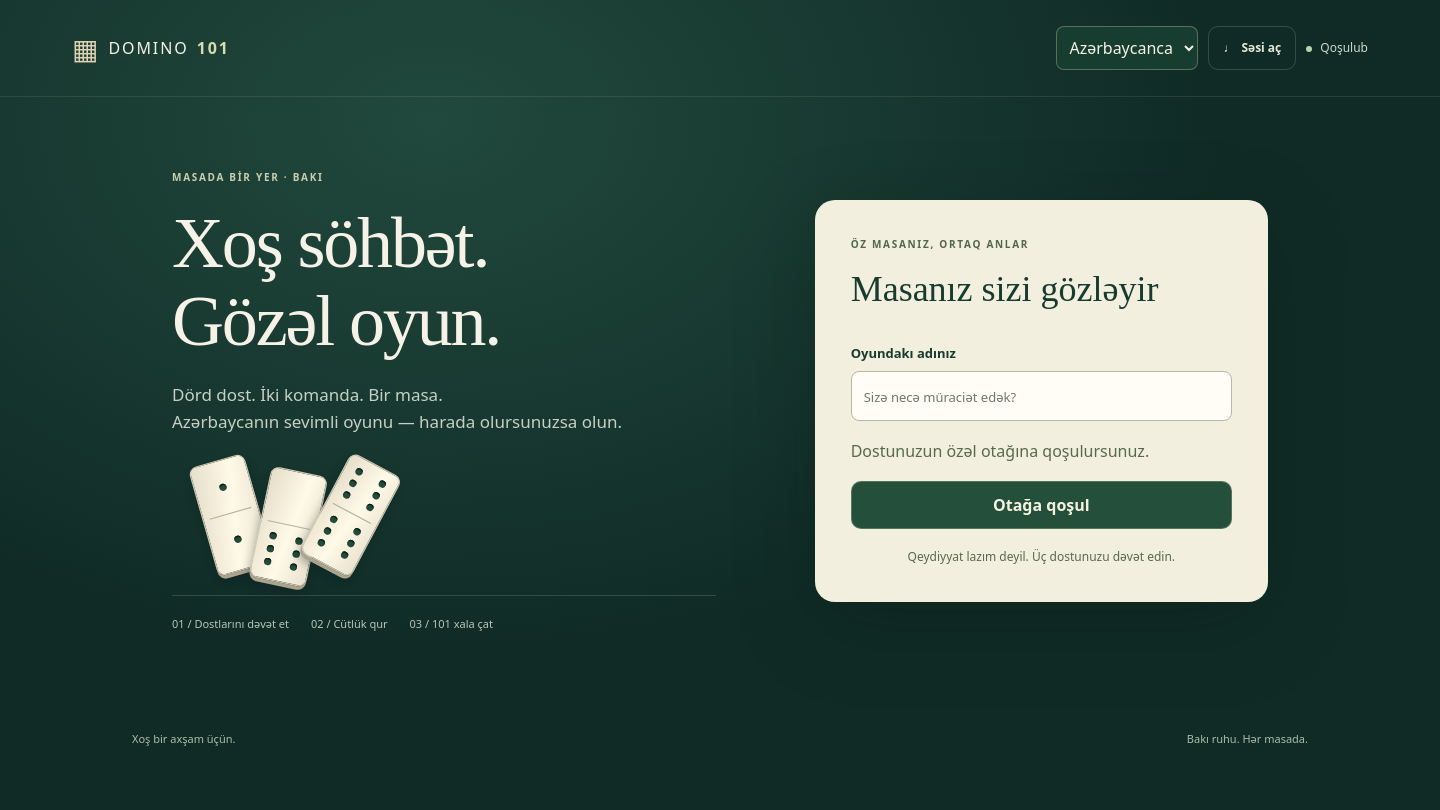
localization resources and persistence › renders az entry, controls and server errors
Expected: the heading "Masanız sizi gözləyir" is shown, [851,269,1158,309]
Type "Əli" into the field labelled "Oyundakı adınız". click: (1041, 396)
box: [851,371,1232,421]
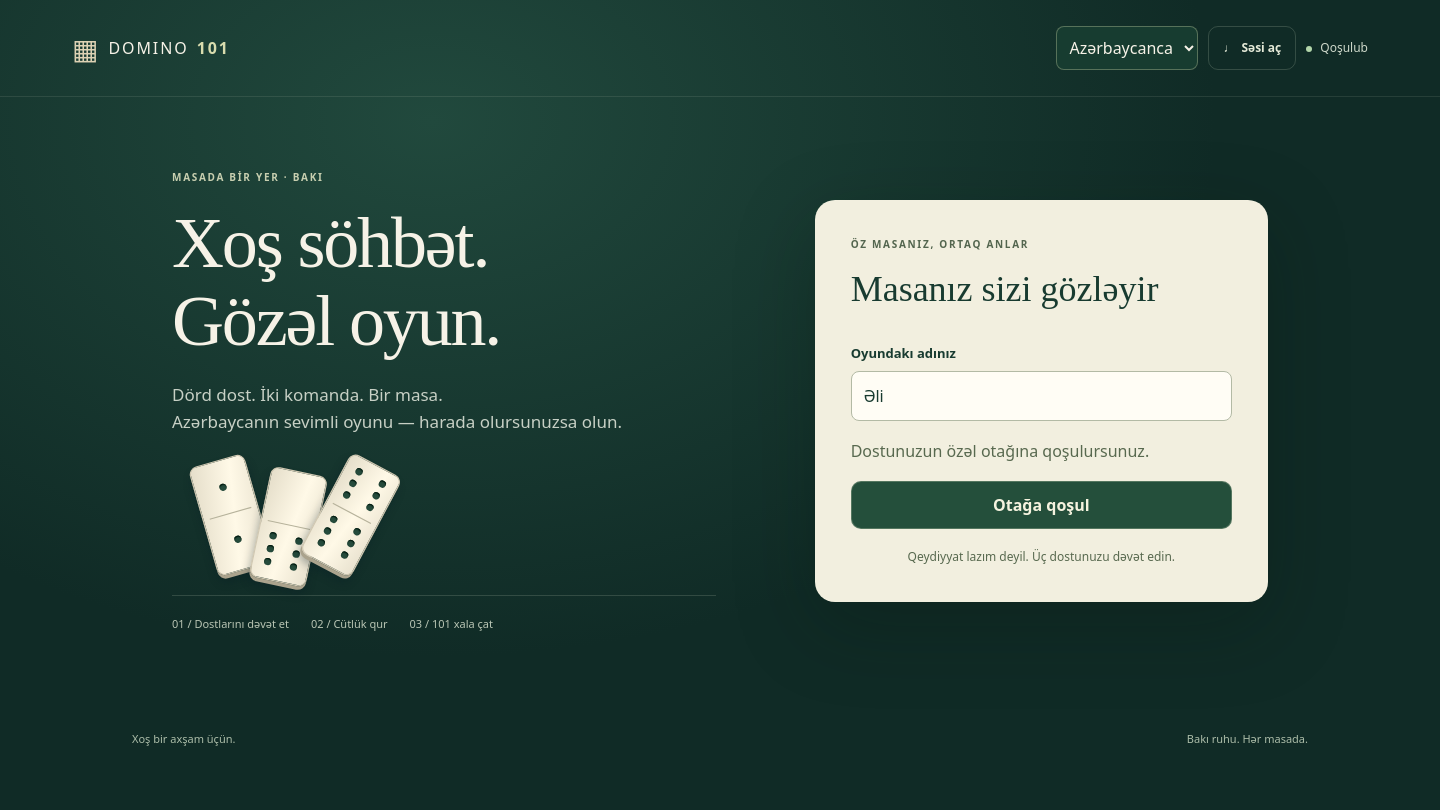
Click the button "Otağa qoşul". click: (1041, 505)
box: [851,481,1232,529]
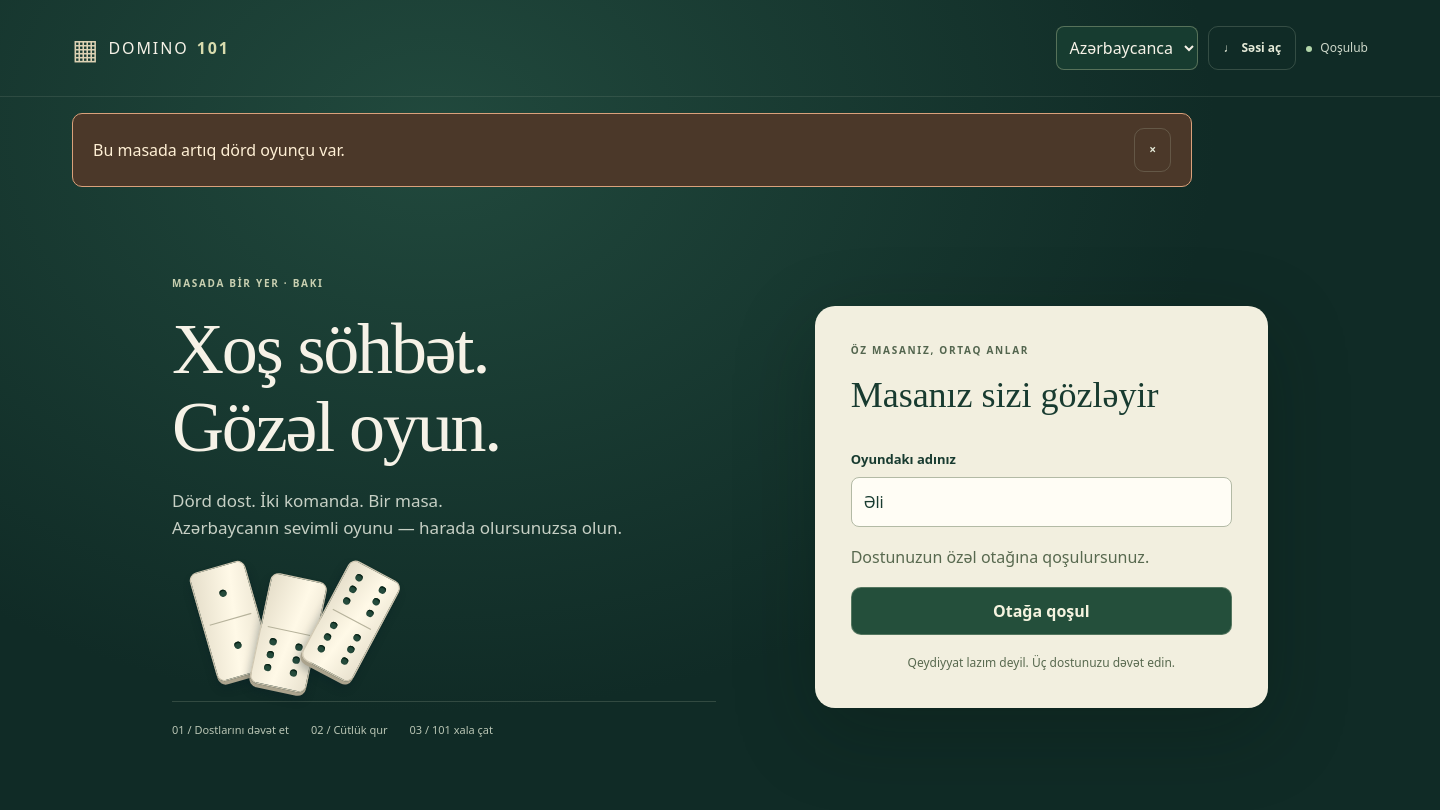
Expected: the message "Bu masada artıq dörd oyunçu var. ×" is shown, [72,113,1192,187]
